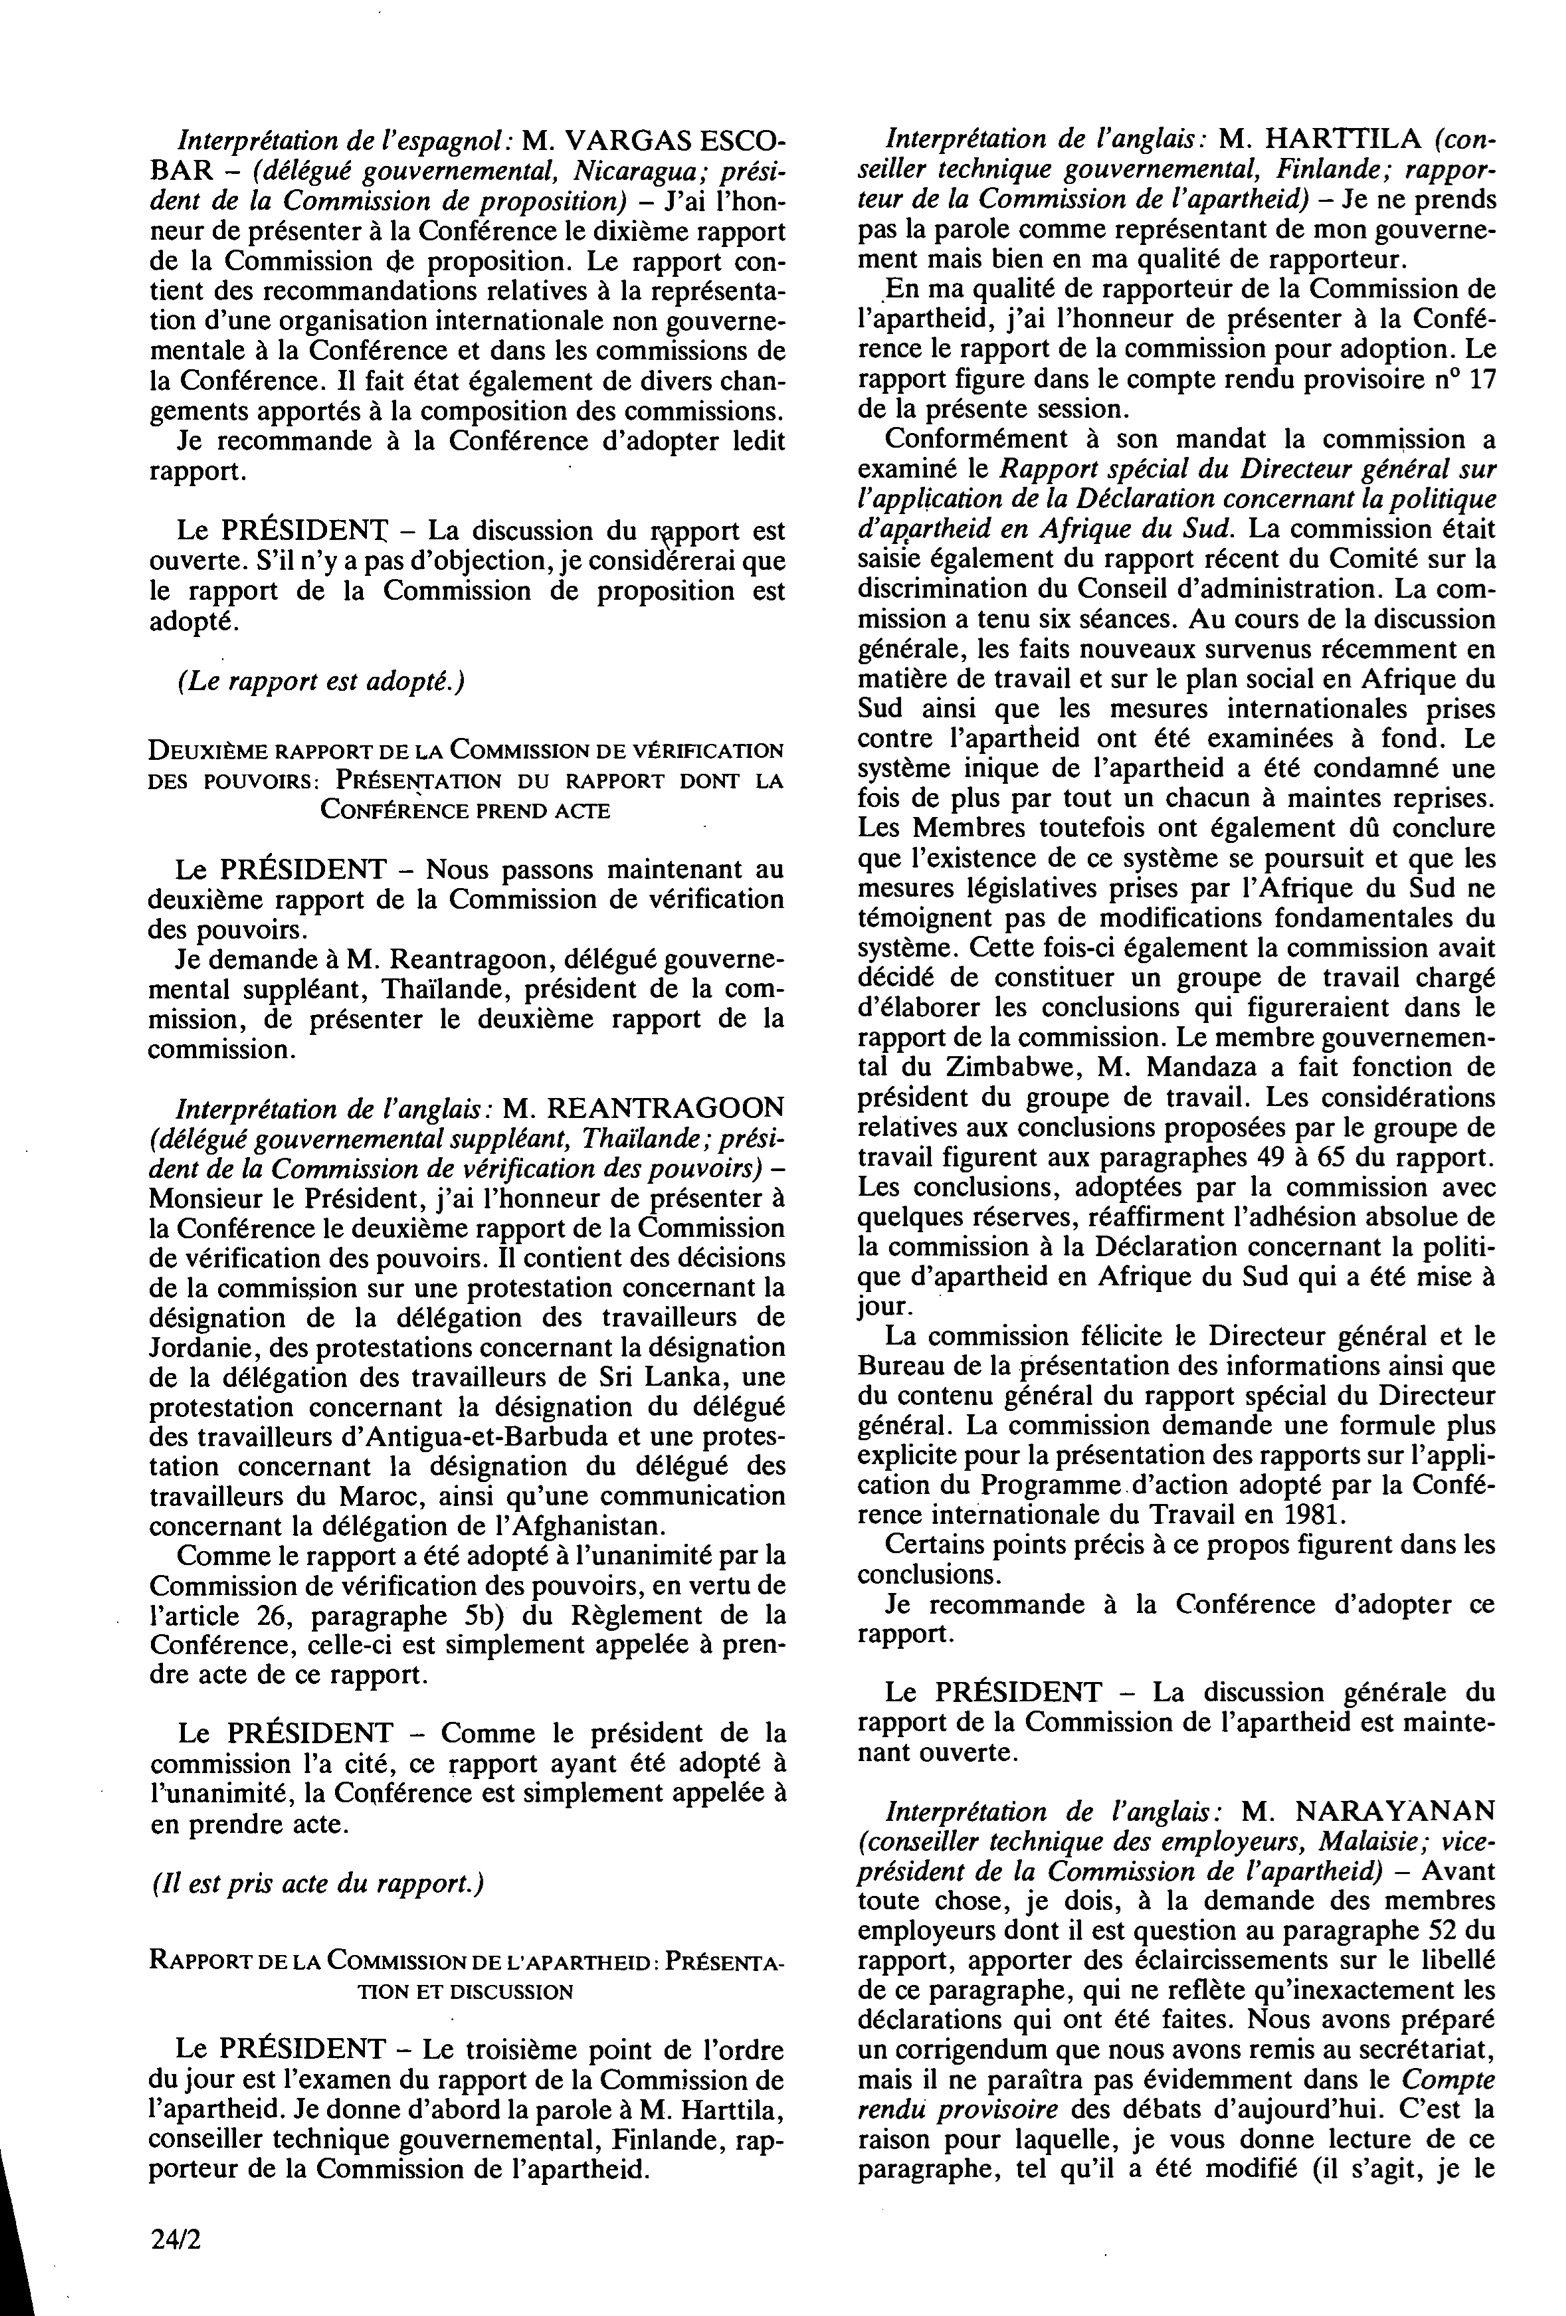MainZone-Head: (140, 730, 794, 829), (143, 1940, 793, 2009)
MainZone-P: (851, 423, 1507, 1320), (139, 1090, 797, 1694), (851, 1793, 1508, 2193), (141, 121, 793, 481), (850, 1322, 1503, 1530), (141, 2029, 793, 2190), (848, 121, 1504, 273), (850, 273, 1503, 422), (140, 508, 794, 642), (144, 1714, 797, 1844), (139, 944, 795, 1067), (850, 1672, 1504, 1772), (139, 851, 793, 944), (849, 1589, 1504, 1655), (849, 1532, 1503, 1590), (139, 1862, 493, 1906), (165, 660, 473, 704)
TitlePageZone: (145, 2220, 211, 2262)
